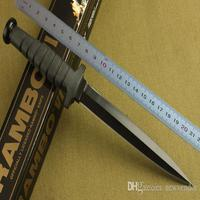knife: (1, 16, 196, 189)
